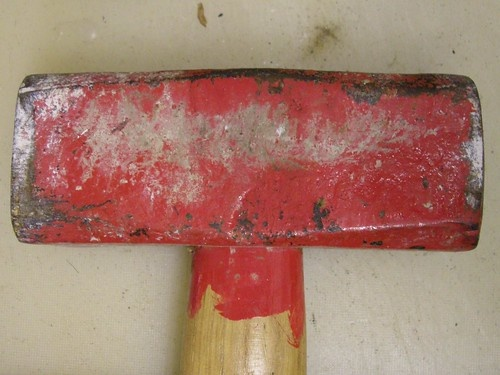hammer: (10, 71, 486, 375)
